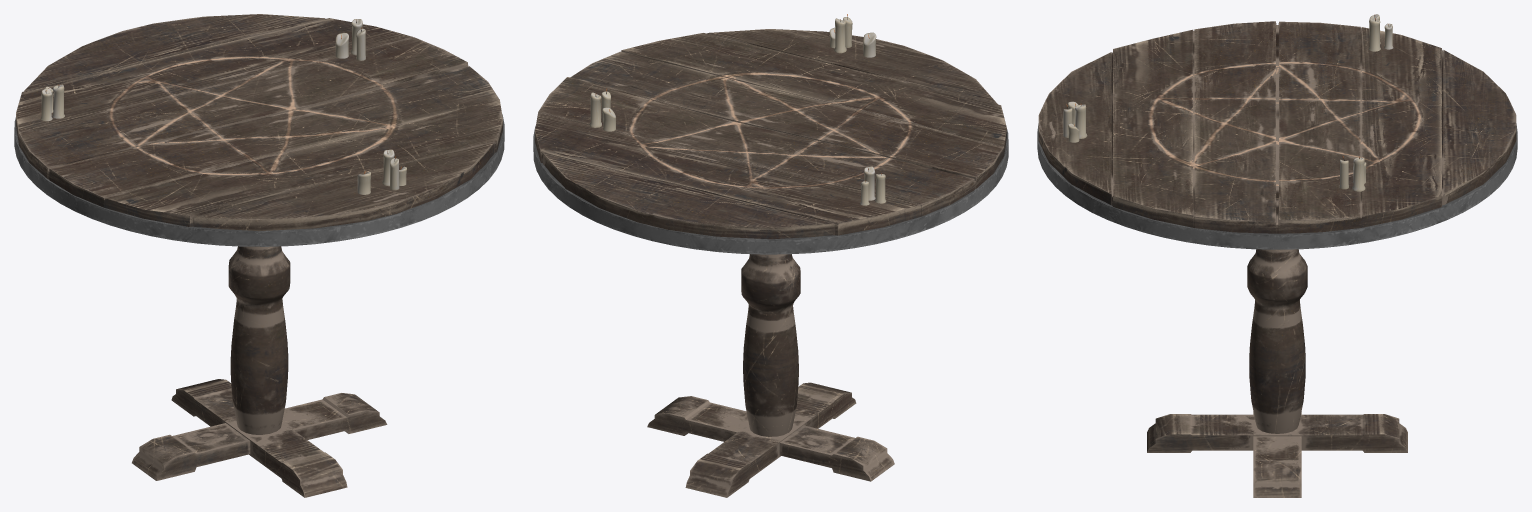
3 views of the same model, side by side, from view 1: azimuth 30°, elevation 25°; view 2: azimuth 150°, elevation 25°; view 3: azimuth 270°, elevation 25° (orthographic). The views are drawn at different scales.
Visible parts, largest first — view 1: kolco_low.001; view 2: kolco_low.001; view 3: kolco_low.001.
Part boxes in pixels (box(x1,y1,x2,y2)): kolco_low.001: box(14, 14, 504, 497); kolco_low.001: box(533, 14, 1008, 497); kolco_low.001: box(1037, 14, 1517, 497).
Size of the model in its own units: 3.79 by 3.07 by 3.79.
Materials: 1 (1 with a texture image).
